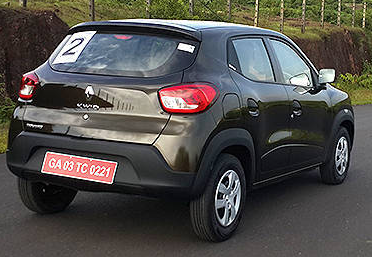car: (7, 21, 358, 242)
